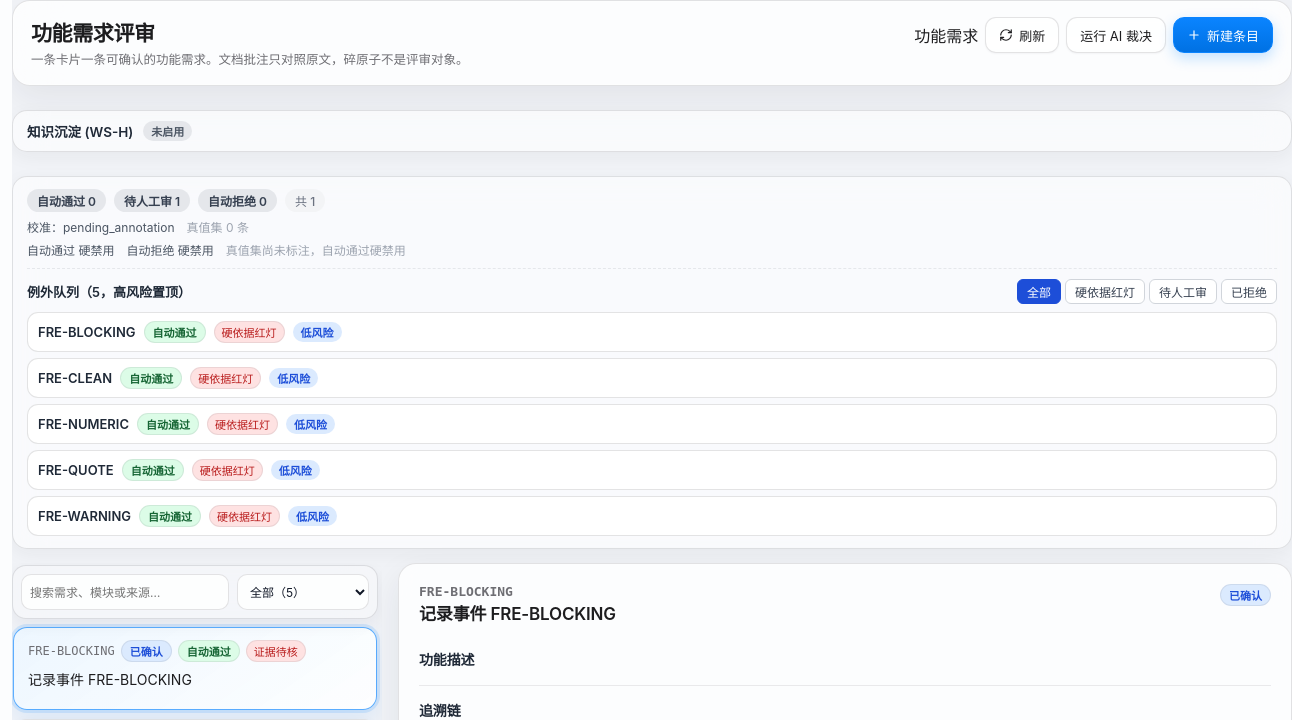
Test: FunctionalReview (WS-F) › keeps evidence warnings in the risk filter even after confirmation and acceptance
The image size is (1292, 720).
Select "待确认/有风险" in the dropdown with test id "functional-filter" at x=303, y=592, box [237, 574, 369, 610]
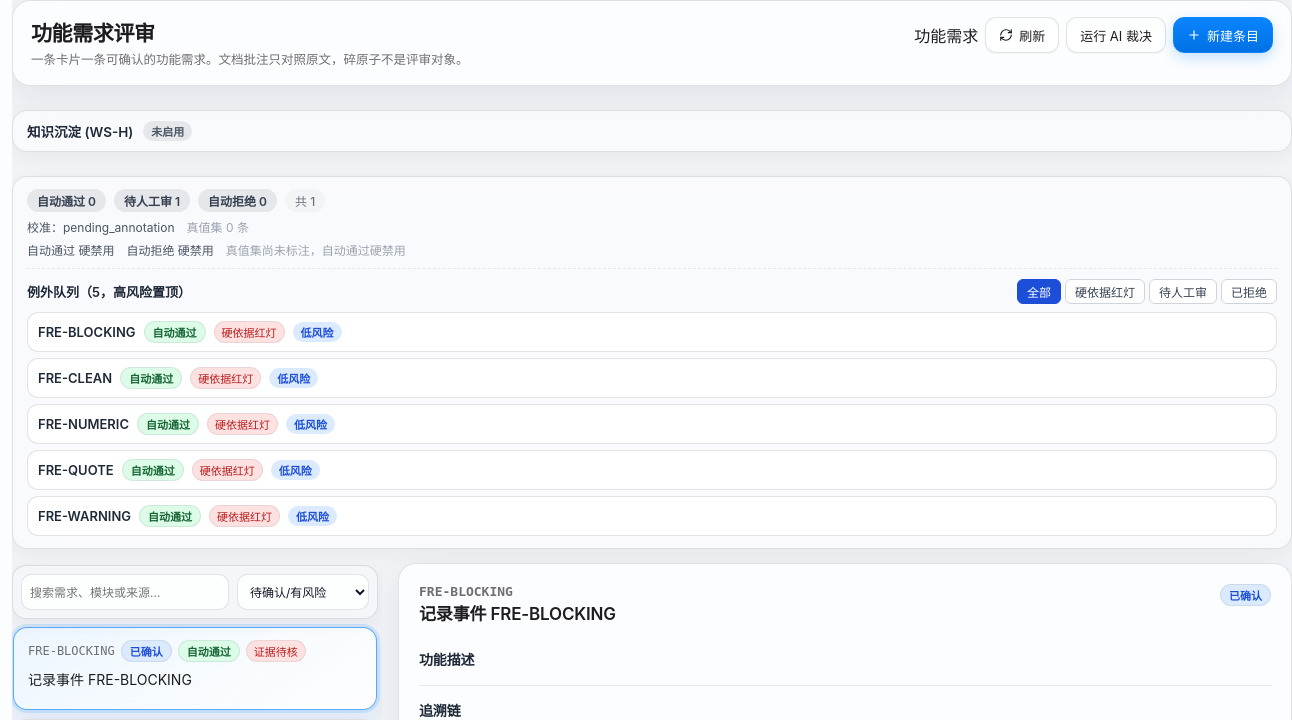
Type "FRE-QUOTE" into the search field with test id "functional-search".
click(125, 592); type("FRE-QUOTE")  # box [21, 574, 229, 610]
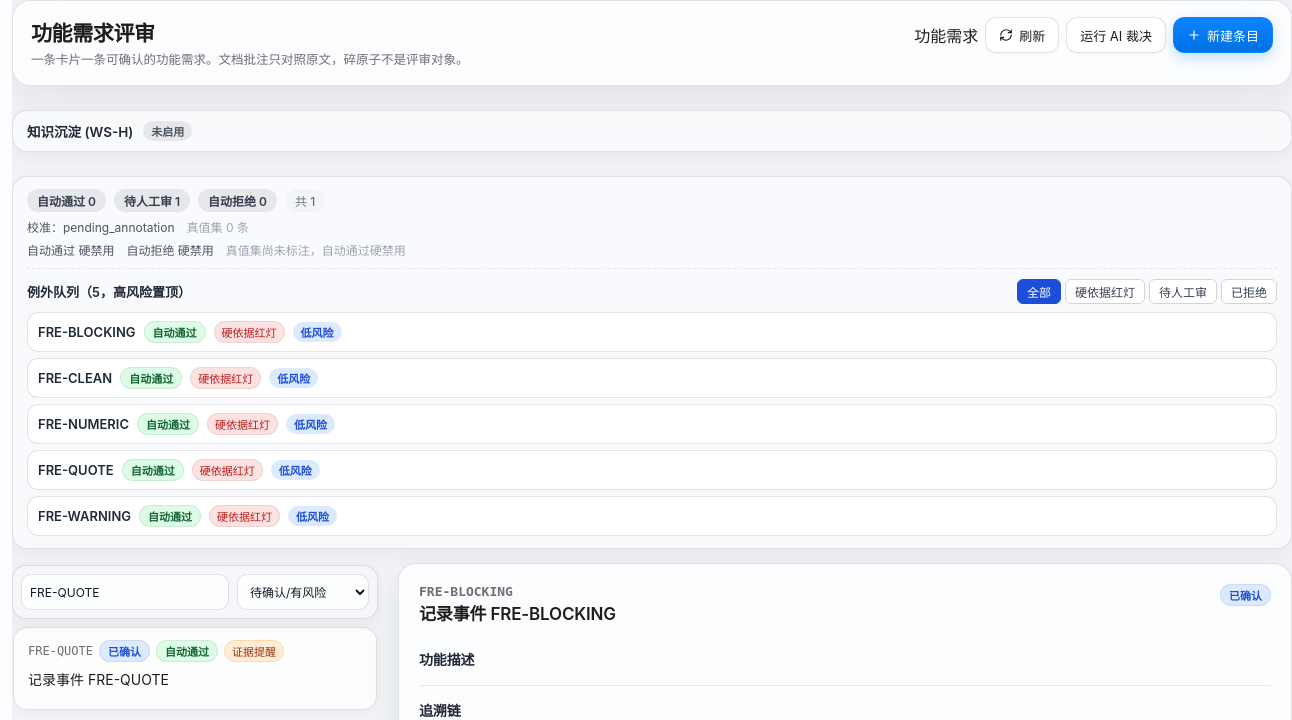
Expected: the button with test id "functional-card-FRE-QUOTE" is shown, [13, 627, 377, 710]
Replace the text in the search field with test id "functional-search" with "FRE-NUMERIC" at x=125, y=592, box [21, 574, 229, 610]
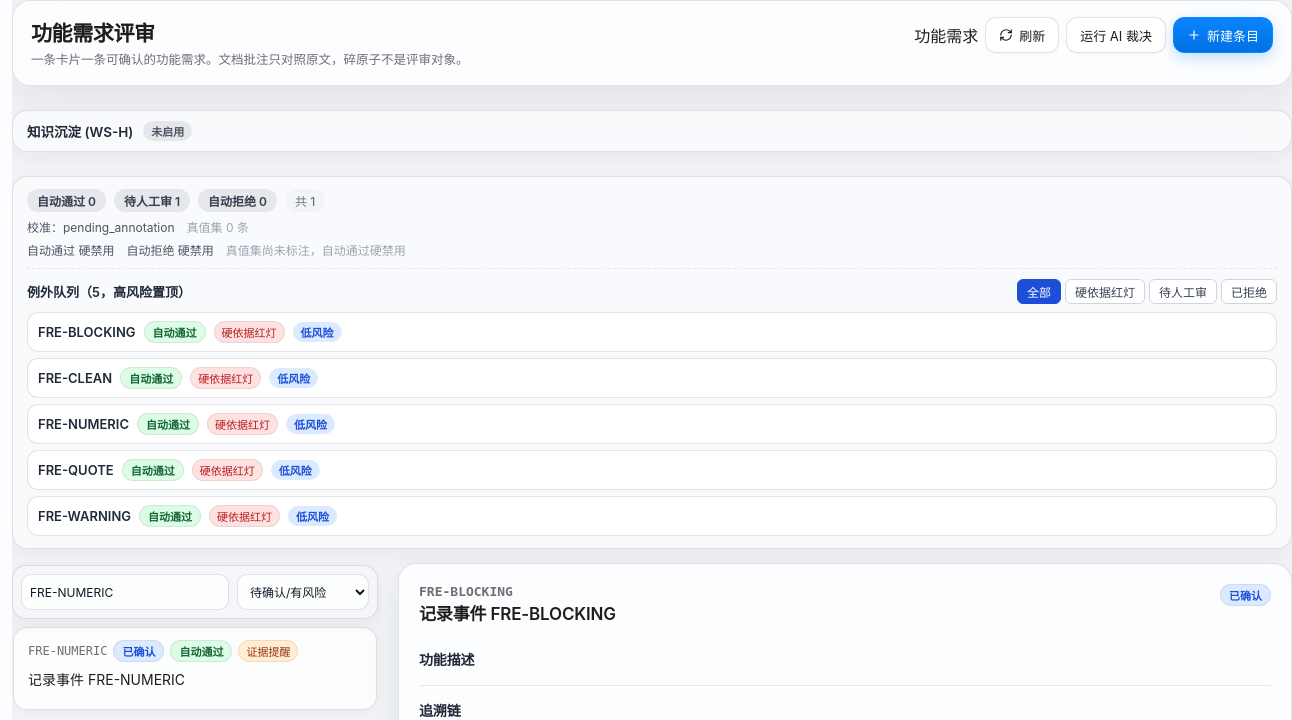
Expected: the button with test id "functional-card-FRE-NUMERIC" shows "证据提醒", [13, 627, 377, 710]
